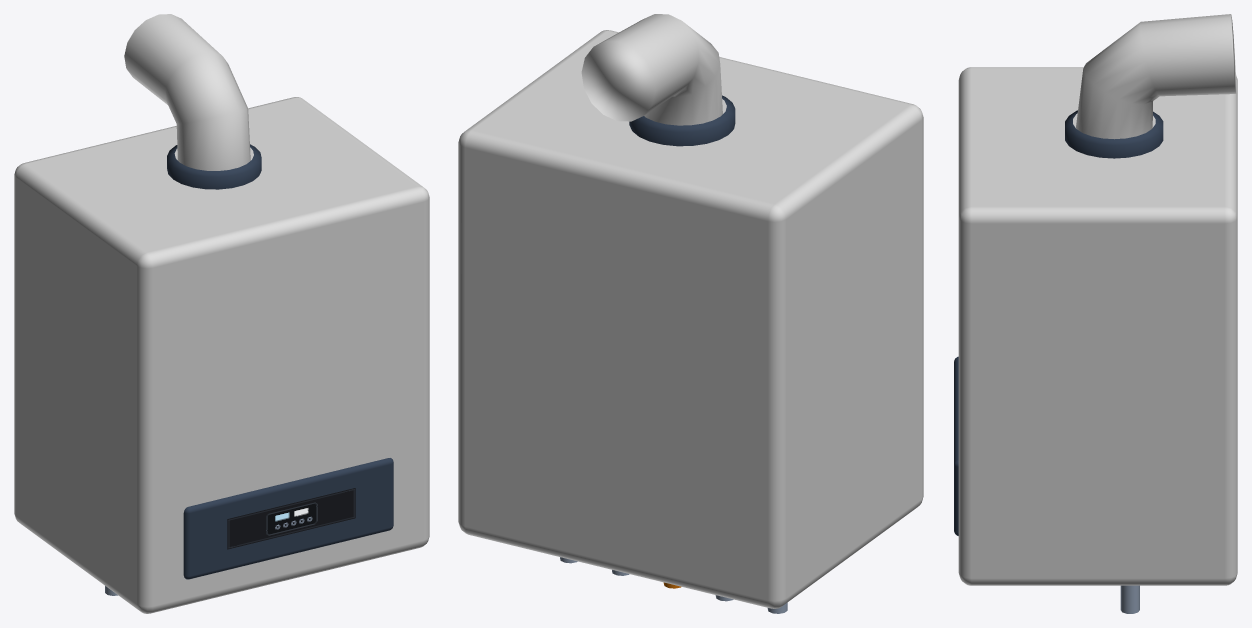
Rendered from obj_arch_combi_boiler.glb.
The picture shows the model from 3 angles, left to right: view 1: azimuth 30°, elevation 25°; view 2: azimuth 150°, elevation 25°; view 3: azimuth 270°, elevation 25°; orthographic projection. The views are drawn at different scales.
Visible parts, largest first — view 1: obj_arch_combi_boiler; view 2: obj_arch_combi_boiler; view 3: obj_arch_combi_boiler.
Part boxes in pixels (x1,y1,x2,y2): obj_arch_combi_boiler: [14, 14, 429, 613]; obj_arch_combi_boiler: [458, 14, 923, 613]; obj_arch_combi_boiler: [954, 14, 1237, 613].
Size of the model in its own units: 0.44 by 0.7499 by 0.356.
Materials: 5 (1 with a texture image).
